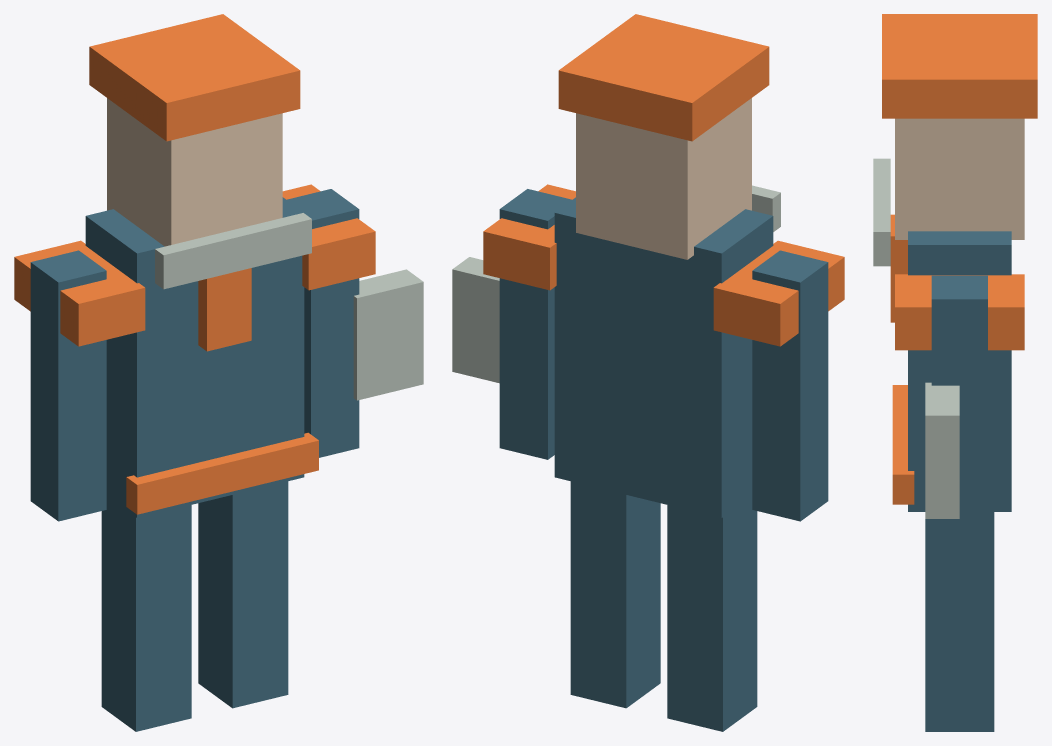
File: 16_vale_brightlock_tamer_near_ember.glb
The picture shows the model from 3 angles, left to right: view 1: azimuth 30°, elevation 25°; view 2: azimuth 150°, elevation 25°; view 3: azimuth 270°, elevation 25°; orthographic projection.
Visible parts, largest first — view 1: Vale Brightlock, Tamer near Ember; view 2: Vale Brightlock, Tamer near Ember; view 3: Vale Brightlock, Tamer near Ember.
Part boxes in pixels (left/top/right/bottom): Vale Brightlock, Tamer near Ember: left=14, top=14, right=423, bottom=731; Vale Brightlock, Tamer near Ember: left=452, top=14, right=844, bottom=731; Vale Brightlock, Tamer near Ember: left=873, top=14, right=1037, bottom=731.
Bounding box in the file's own units: 0.9901 × 1.68 × 0.3859.
